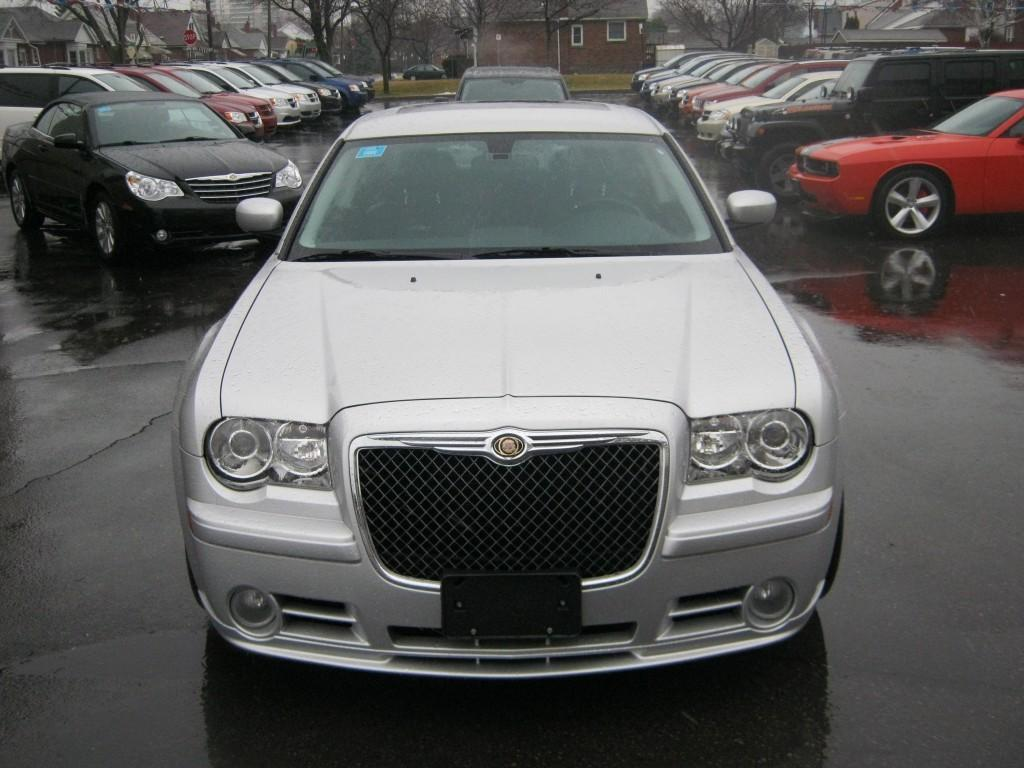Chrysler: (355, 410, 660, 463)
